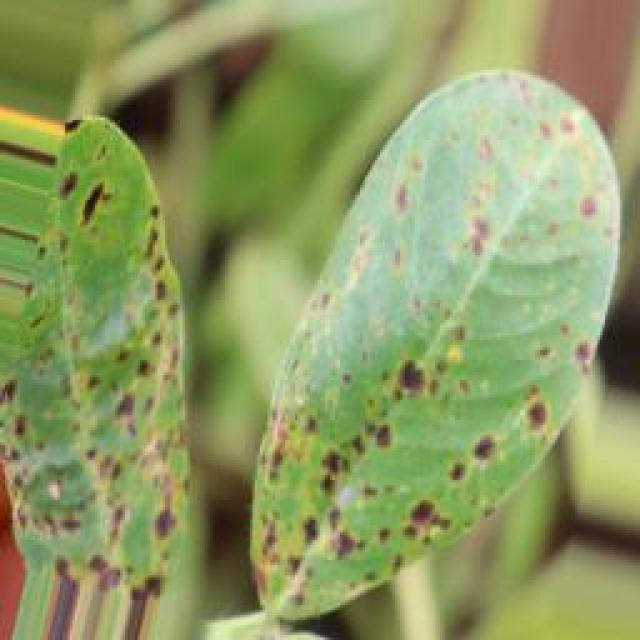Yellowish: (246, 42, 616, 626), (0, 90, 205, 580)
